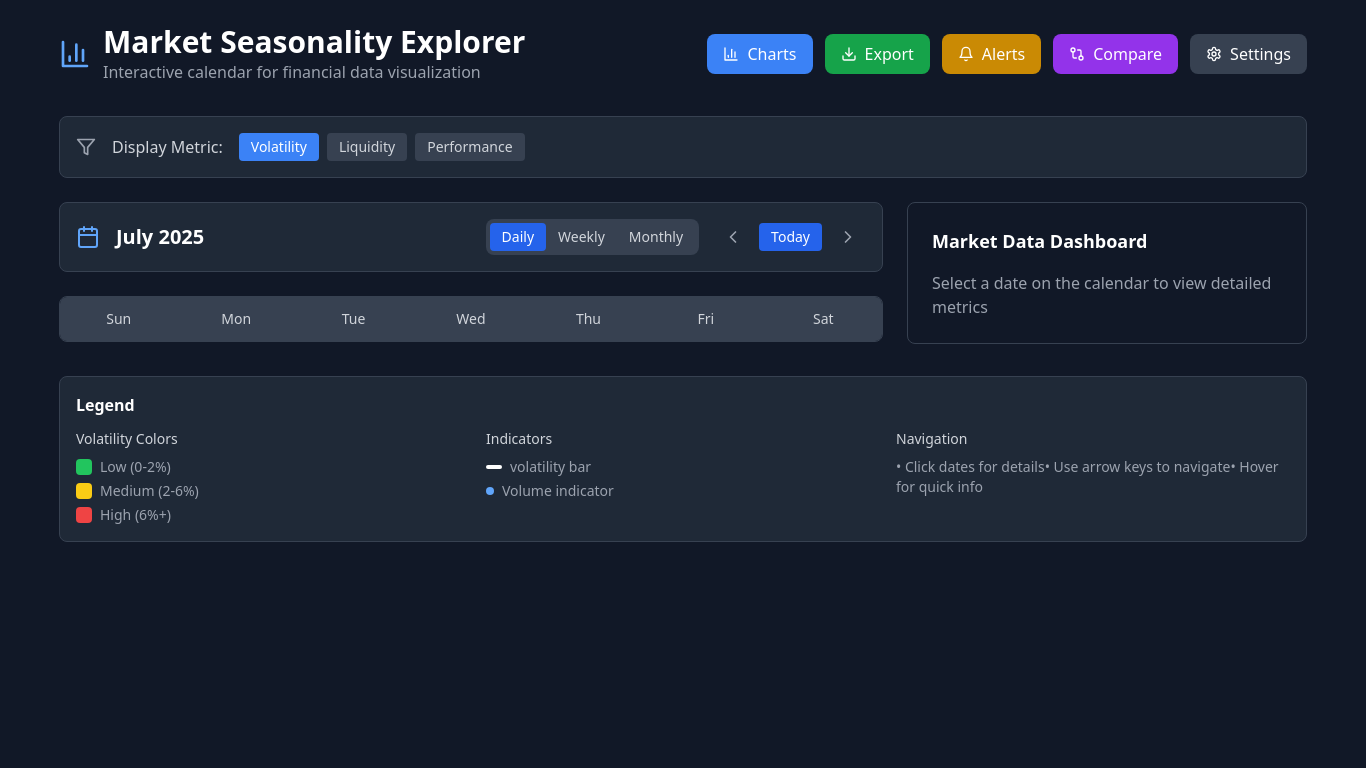
Scenario: App › should open export modal when export button is clicked
Step 1. Click the button "Export" → (877, 54), box [824, 34, 930, 74]
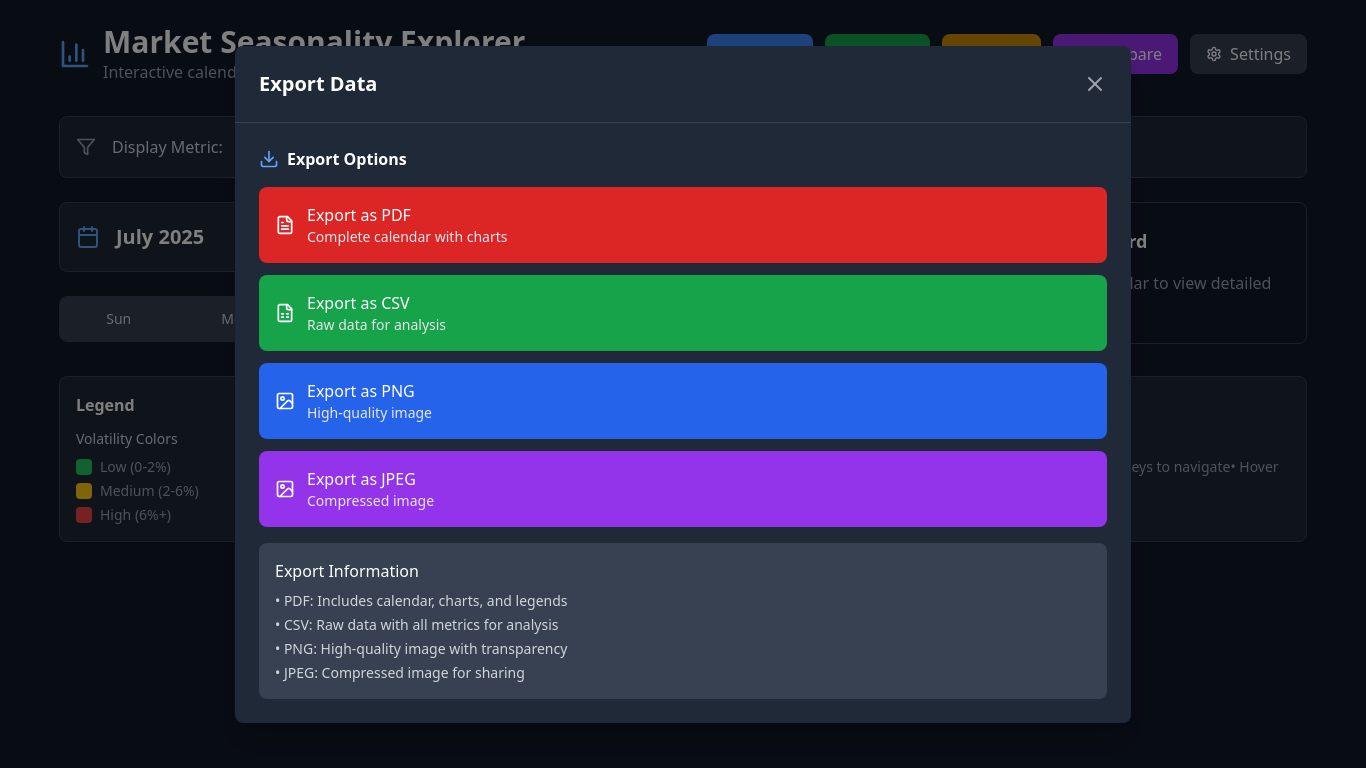
Check: the heading "Export Data" is shown, box [259, 70, 377, 98]
